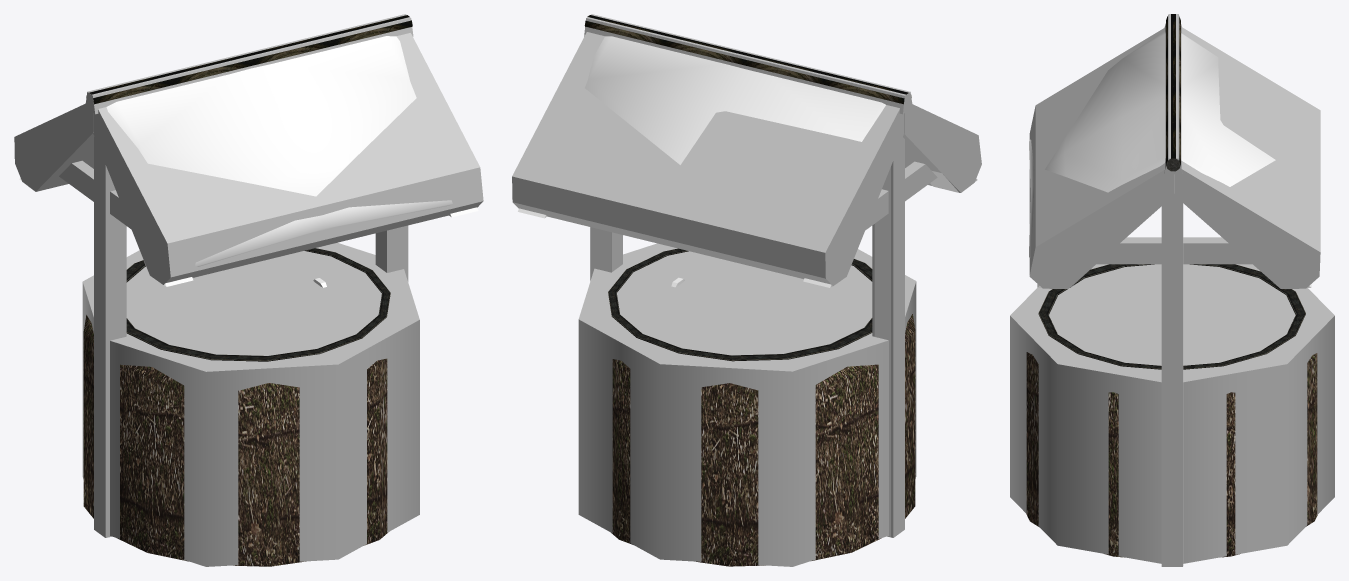
Rendered from ex_nord_well_01.obj.
3 renders of one model, left to right at view 1: azimuth 30°, elevation 25°; view 2: azimuth 150°, elevation 25°; view 3: azimuth 270°, elevation 25°, orthographic. The views are drawn at different scales.
Parts seen in each view (by area): view 1: nifid_43-matrix_-lib.006, nifid_22-matrix_Tri_Ex_nord_well_01_6-lib, nifid_33-matrix_-lib.001, nifid_16-matrix_Tri_Ex_nord_well_01_4-lib, nifid_39-matrix_-lib.004, nifid_35-matrix_-lib.002, nifid_31-matrix_-lib, nifid_10-matrix_Tri_Ex_nord_well_01_2-lib, nifid_6-matrix_Tri_Ex_nord_well_01_1-lib, nifid_41-matrix_-lib.005, nifid_45-matrix_-lib.007; view 2: nifid_43-matrix_-lib.006, nifid_35-matrix_-lib.002, nifid_16-matrix_Tri_Ex_nord_well_01_4-lib, nifid_22-matrix_Tri_Ex_nord_well_01_6-lib, nifid_39-matrix_-lib.004, nifid_33-matrix_-lib.001, nifid_31-matrix_-lib, nifid_10-matrix_Tri_Ex_nord_well_01_2-lib, nifid_26-matrix_Tri_Ex_nord_well_01_7-lib, nifid_6-matrix_Tri_Ex_nord_well_01_1-lib, nifid_45-matrix_-lib.007, nifid_20-matrix_Tri_Ex_nord_well_01_5-lib; view 3: nifid_43-matrix_-lib.006, nifid_35-matrix_-lib.002, nifid_22-matrix_Tri_Ex_nord_well_01_6-lib, nifid_33-matrix_-lib.001, nifid_41-matrix_-lib.005, nifid_16-matrix_Tri_Ex_nord_well_01_4-lib, nifid_6-matrix_Tri_Ex_nord_well_01_1-lib, nifid_37-matrix_-lib.003, nifid_31-matrix_-lib, nifid_10-matrix_Tri_Ex_nord_well_01_2-lib, nifid_20-matrix_Tri_Ex_nord_well_01_5-lib.
Part boxes in pixels (<box>): nifid_43-matrix_-lib.006: <box>82,242,419,566</box>; nifid_22-matrix_Tri_Ex_nord_well_01_6-lib: <box>106,36,452,266</box>; nifid_33-matrix_-lib.001: <box>93,33,483,284</box>; nifid_16-matrix_Tri_Ex_nord_well_01_4-lib: <box>83,315,388,566</box>; nifid_39-matrix_-lib.004: <box>94,136,126,537</box>; nifid_35-matrix_-lib.002: <box>14,103,94,191</box>; nifid_31-matrix_-lib: <box>85,14,413,114</box>; nifid_10-matrix_Tri_Ex_nord_well_01_2-lib: <box>89,15,412,104</box>; nifid_6-matrix_Tri_Ex_nord_well_01_1-lib: <box>126,248,390,361</box>; nifid_41-matrix_-lib.005: <box>375,225,408,281</box>; nifid_45-matrix_-lib.007: <box>59,160,131,229</box>; nifid_43-matrix_-lib.006: <box>578,243,916,566</box>; nifid_35-matrix_-lib.002: <box>512,32,903,285</box>; nifid_16-matrix_Tri_Ex_nord_well_01_4-lib: <box>611,314,915,566</box>; nifid_22-matrix_Tri_Ex_nord_well_01_6-lib: <box>585,36,885,164</box>; nifid_39-matrix_-lib.004: <box>872,137,904,537</box>; nifid_33-matrix_-lib.001: <box>903,104,981,192</box>; nifid_31-matrix_-lib: <box>584,14,912,114</box>; nifid_10-matrix_Tri_Ex_nord_well_01_2-lib: <box>584,15,908,104</box>; nifid_26-matrix_Tri_Ex_nord_well_01_7-lib: <box>803,167,977,536</box>; nifid_6-matrix_Tri_Ex_nord_well_01_1-lib: <box>608,248,872,361</box>; nifid_45-matrix_-lib.007: <box>865,161,937,230</box>; nifid_20-matrix_Tri_Ex_nord_well_01_5-lib: <box>518,208,611,278</box>; nifid_43-matrix_-lib.006: <box>1010,264,1334,563</box>; nifid_35-matrix_-lib.002: <box>1174,27,1320,288</box>; nifid_22-matrix_Tri_Ex_nord_well_01_6-lib: <box>1029,31,1275,257</box>; nifid_33-matrix_-lib.001: <box>1029,27,1173,288</box>; nifid_41-matrix_-lib.005: <box>1161,194,1182,566</box>; nifid_16-matrix_Tri_Ex_nord_well_01_4-lib: <box>1026,352,1317,557</box>; nifid_6-matrix_Tri_Ex_nord_well_01_1-lib: <box>1038,264,1305,369</box>; nifid_37-matrix_-lib.003: <box>1096,237,1251,264</box>; nifid_31-matrix_-lib: <box>1164,14,1182,174</box>; nifid_10-matrix_Tri_Ex_nord_well_01_2-lib: <box>1166,14,1180,164</box>; nifid_20-matrix_Tri_Ex_nord_well_01_5-lib: <box>1037,174,1311,565</box>.
Size of the model in its own units: 7.21 by 9.57 by 6.85.
